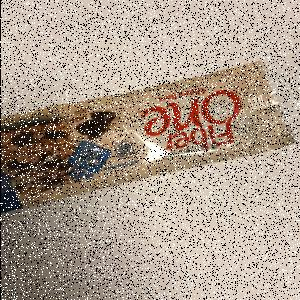Trash: (2, 60, 299, 214)
